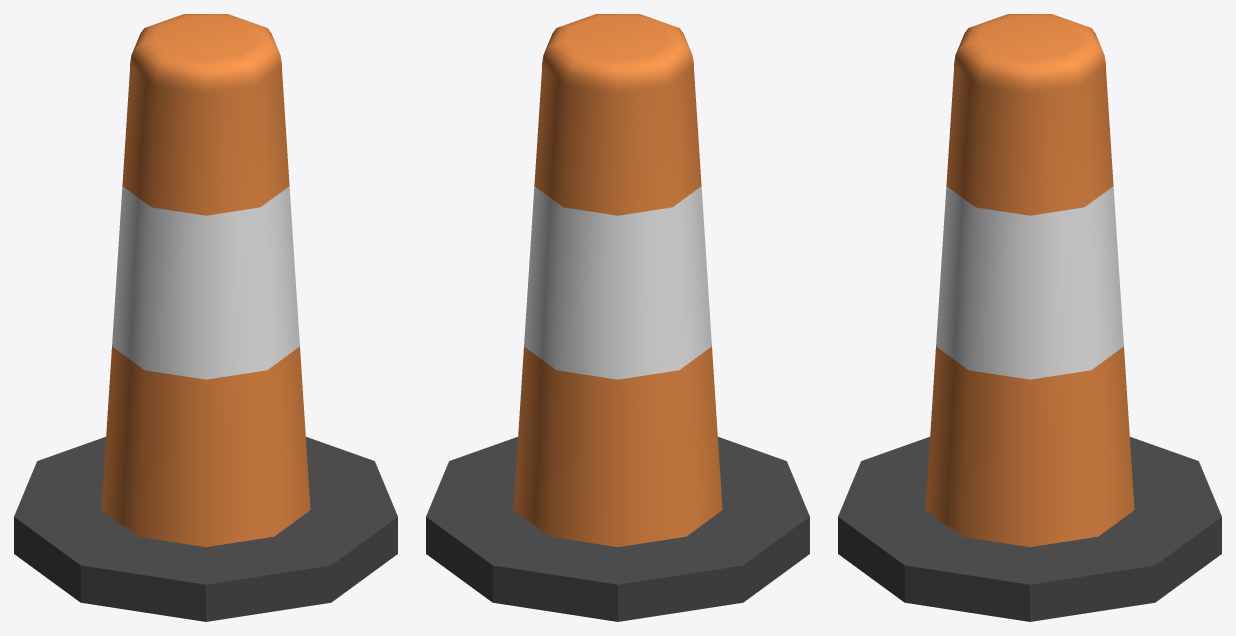
The picture shows the model from 3 angles, left to right: view 1: azimuth 30°, elevation 25°; view 2: azimuth 150°, elevation 25°; view 3: azimuth 270°, elevation 25°; orthographic projection.
Visible parts, largest first — view 1: Cylinder002_Material #77_0; view 2: Cylinder002_Material #77_0; view 3: Cylinder002_Material #77_0.
Boxes of the visible parts, x1,y1,x2,y2 form: Cylinder002_Material #77_0: (14, 14, 397, 621); Cylinder002_Material #77_0: (426, 14, 809, 621); Cylinder002_Material #77_0: (838, 14, 1221, 621).
Bounding box in the file's own units: 0.3616 × 0.5291 × 0.3671.
